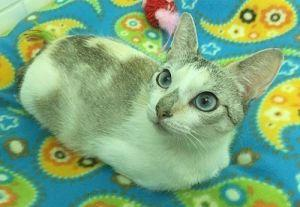siamese: (144, 8, 286, 156)
